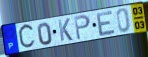0: (36, 20, 54, 46), (115, 7, 132, 34)
C: (17, 23, 36, 51)
E: (96, 9, 117, 38)
K: (57, 17, 74, 43)
P: (73, 14, 92, 42)
